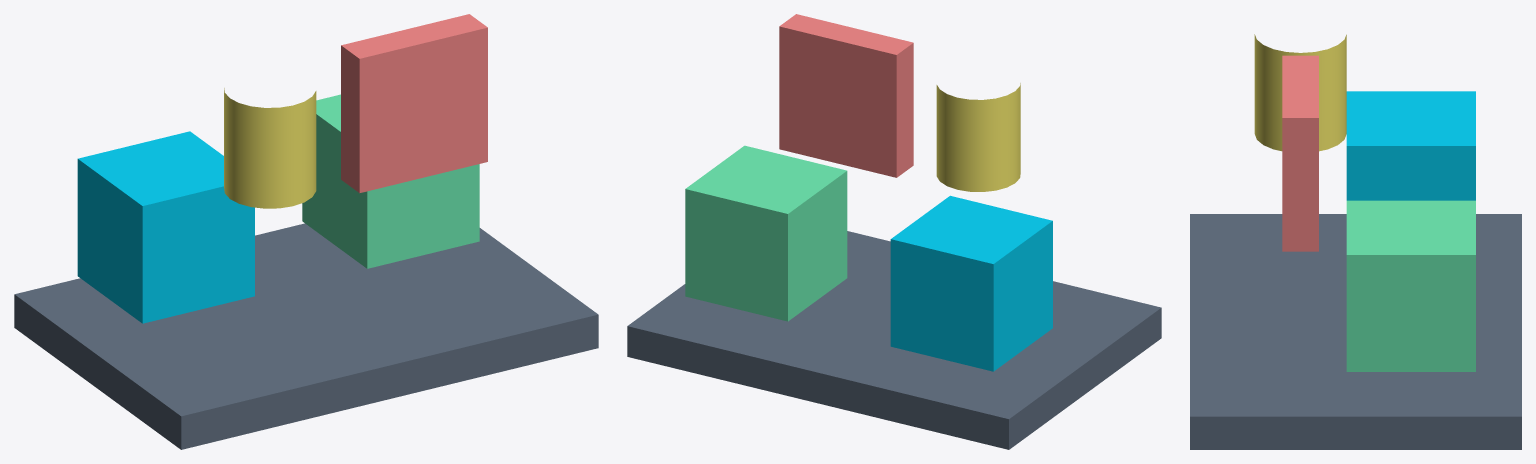
The model's file is cloud_cyber_security.glb.
3 renders of one model, left to right at view 1: azimuth 30°, elevation 25°; view 2: azimuth 150°, elevation 25°; view 3: azimuth 270°, elevation 25°, orthographic. The views are drawn at different scales.
Parts seen in each view (by area): view 1: CloudVirtualHostBase, DockerContainerPod1, SHA256HashVaultShield, DockerContainerPod2, RSAPublicPrivateKeyPair; view 2: CloudVirtualHostBase, DockerContainerPod1, DockerContainerPod2, SHA256HashVaultShield, RSAPublicPrivateKeyPair; view 3: CloudVirtualHostBase, DockerContainerPod2, DockerContainerPod1, SHA256HashVaultShield, RSAPublicPrivateKeyPair.
Part boxes in pixels (x1,y1,x2,y2): CloudVirtualHostBase: (14,223,598,449); DockerContainerPod1: (77,131,254,323); SHA256HashVaultShield: (341,14,487,193); DockerContainerPod2: (302,94,479,268); RSAPublicPrivateKeyPair: (224,88,316,208); CloudVirtualHostBase: (627,231,1161,449); DockerContainerPod1: (890,195,1052,371); DockerContainerPod2: (685,145,847,321); SHA256HashVaultShield: (779,14,913,177); RSAPublicPrivateKeyPair: (936,83,1020,191); CloudVirtualHostBase: (1190,214,1521,449); DockerContainerPod2: (1346,200,1475,371); DockerContainerPod1: (1346,91,1475,200); SHA256HashVaultShield: (1282,55,1318,251); RSAPublicPrivateKeyPair: (1254,34,1346,151).
Size of the model in its own units: 2.6 by 1.8 by 1.8.
